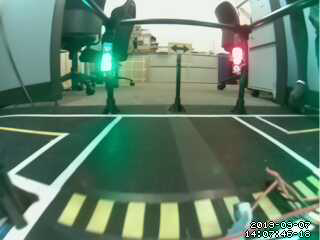Left_Right_sign: (164, 40, 195, 55)
Traffic_light_green: (99, 42, 113, 74)
Traffic_light_red: (229, 47, 249, 78)
